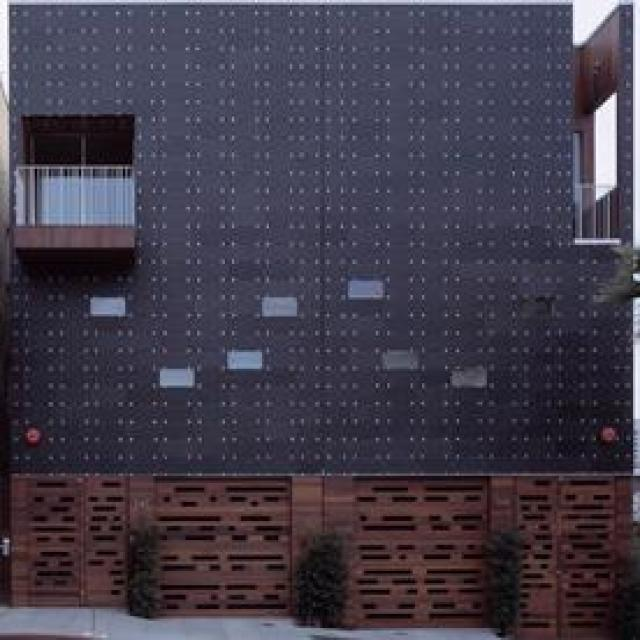Railing: (13, 165, 133, 222), (572, 184, 618, 242)
wall: (5, 1, 634, 631)
windows: (29, 132, 123, 163)
